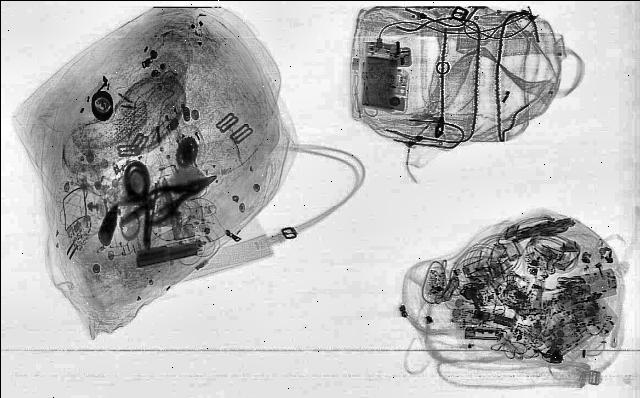Pliers: (122, 164, 235, 226)
